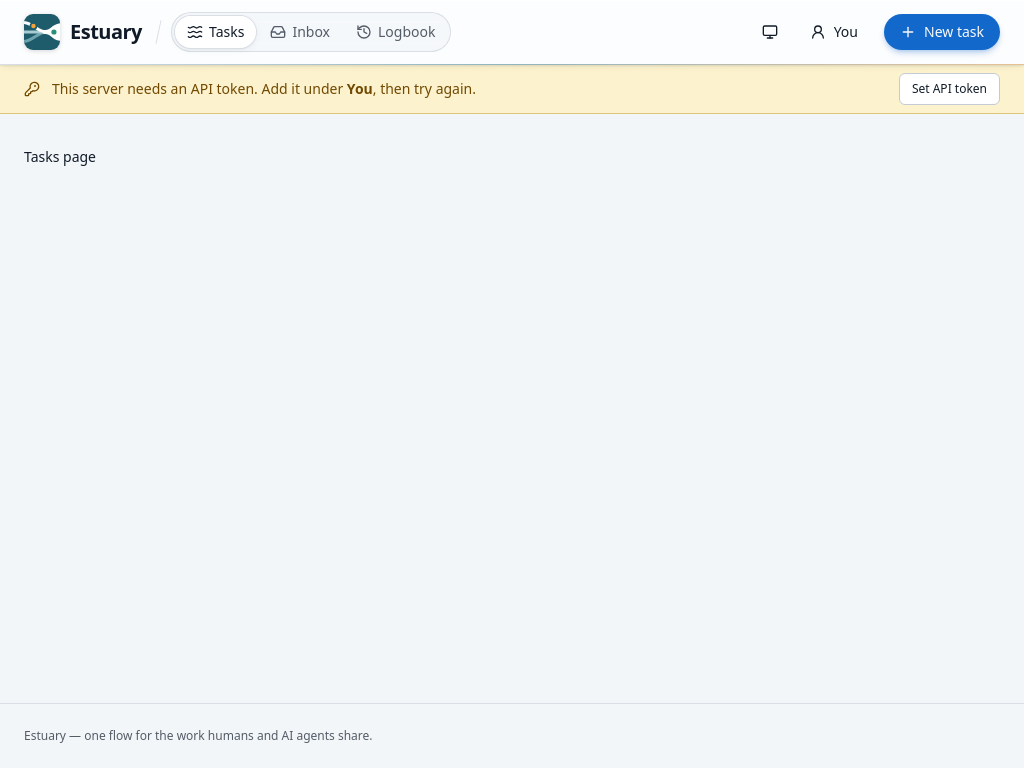
the 401 prompt › points at the session dialog after an UNAUTHORIZED, and clears once a token is saved
Expected: the message shows "This server needs an API token.", [52, 79, 347, 98]
Click the button "Set API token".
click(949, 89)  # box [899, 73, 1000, 105]
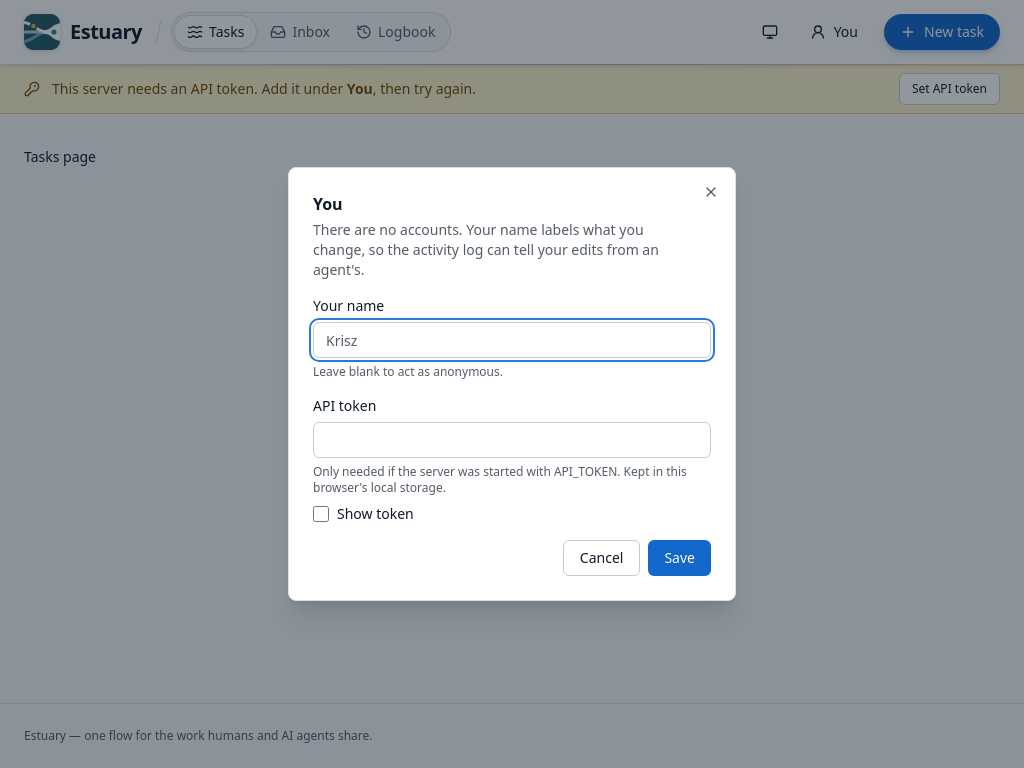
Type "s3cret" into the password field labelled "API token".
click(512, 440); type("s3cret")  # box [313, 422, 711, 458]
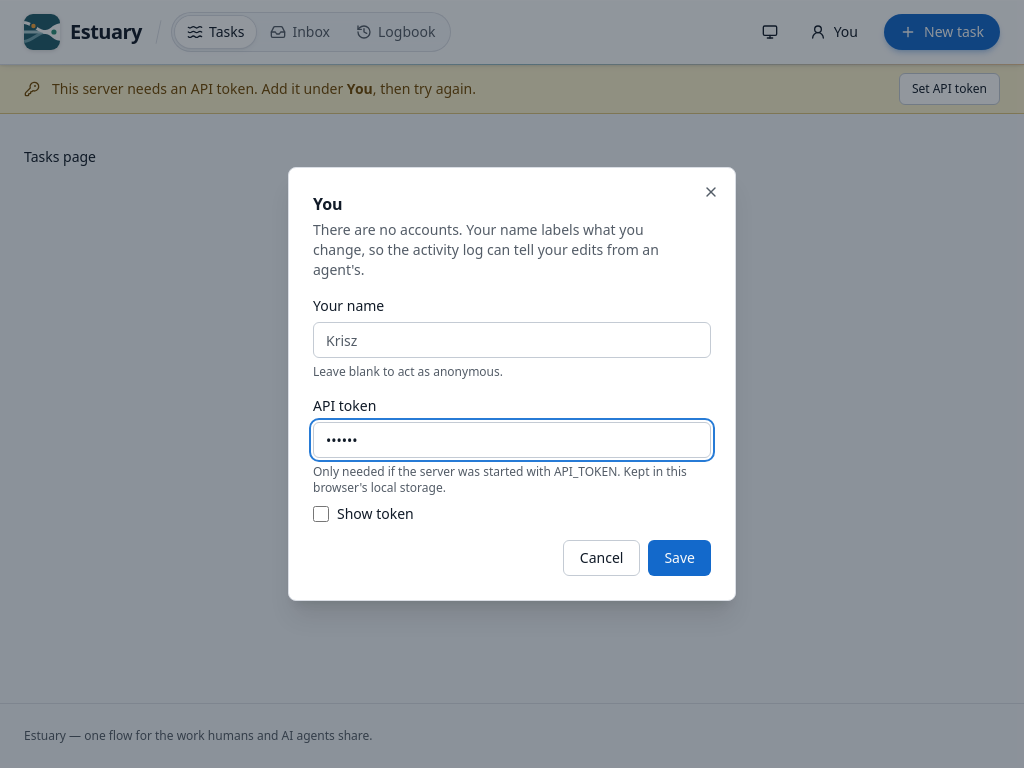
Click the button "Save".
click(680, 558)  # box [648, 540, 711, 576]
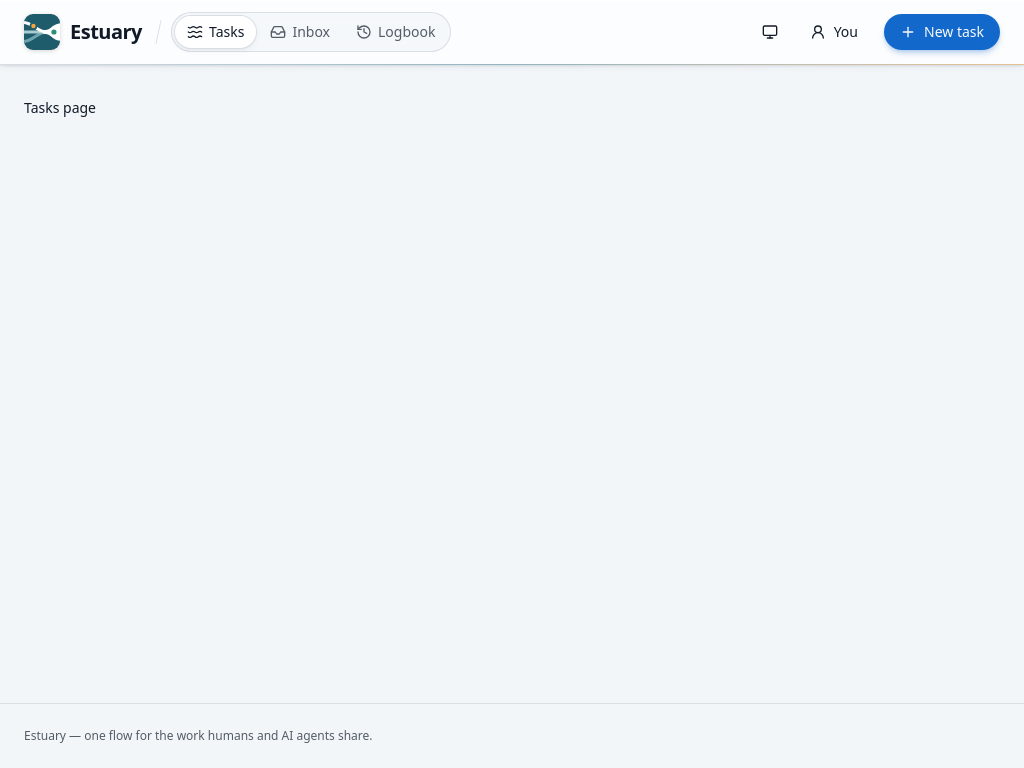
Now the text "needs an API token" is gone
